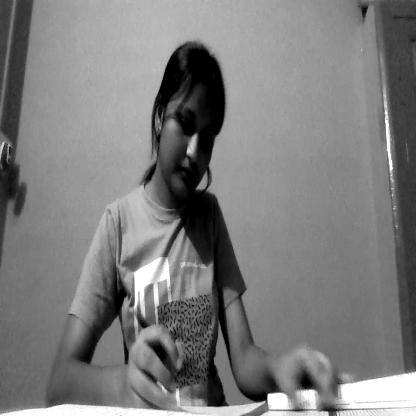Normal: (150, 44, 234, 213)
